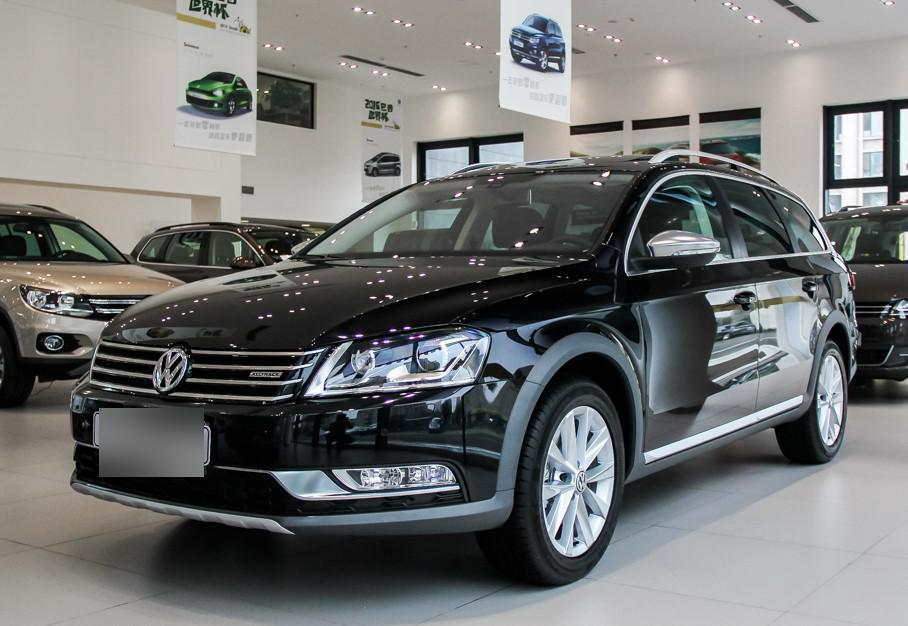Wagon: (70, 156, 856, 588)
